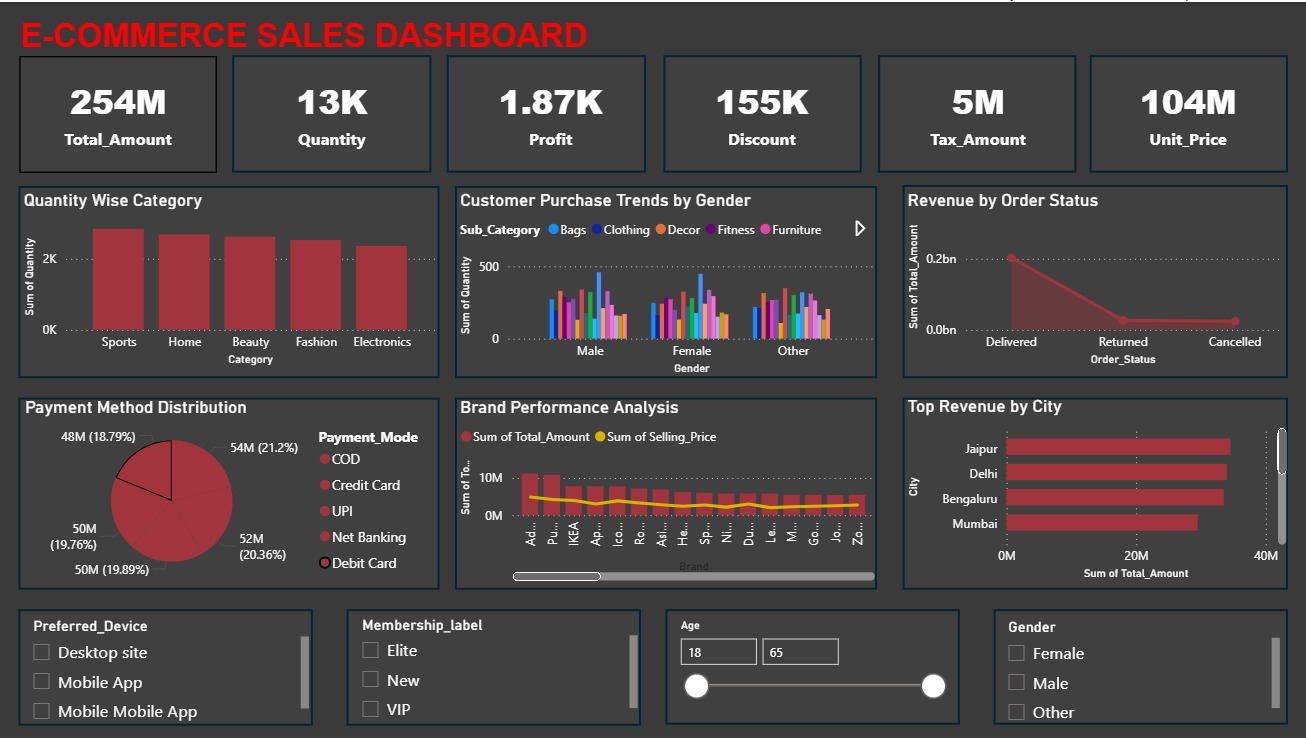

The page's visual inventory and layout, read from the dashboard file:
{"tool":"powerbi","page":{"name":"Page 2","canvas":[1280,720],"ordinal":0},"visuals":[{"type":"image","box":[0,0,1280.3,720.2],"z":0},{"type":"card","fields":{"Values":["Sum(final_joined_table.Quantity)"]},"box":[231.1,53.8,189.5,110.1],"z":1001},{"type":"card","fields":{"Values":["Sum(final_joined_table.Total_Amount)"]},"box":[19.6,53.8,194.4,110.1],"z":1002},{"type":"card","fields":{"Values":["Sum(final_joined_table.Profit_Margin)"]},"box":[440.2,53.8,199.3,110.1],"z":1003},{"type":"card","fields":{"Values":["Sum(final_joined_table.Discount)"]},"box":[650.5,53.8,192,110.1],"z":1004},{"type":"card","fields":{"Values":["Sum(final_joined_table.Tax_Amount)"]},"box":[862.1,53.8,192,110.1],"z":1005},{"type":"card","fields":{"Values":["Sum(final_joined_table.Unit_Price)"]},"box":[1068.8,53.8,189.5,110.1],"z":1006},{"type":"columnChart","title":"Quantity Wise Category","fields":{"Category":["final_joined_table.Category"],"Y":["Sum(final_joined_table.Quantity)"]},"box":[19.6,183.4,412.1,177.3],"z":1007},{"type":"clusteredColumnChart","title":"Customer Purchase Trends by Gender","fields":{"Category":["final_joined_table.Gender"],"Series":["final_joined_table.Sub_Category"],"Y":["Sum(final_joined_table.Quantity)"]},"box":[446.3,183.4,415.8,185.9],"z":1008},{"type":"stackedAreaChart","title":"Revenue by Order Status","fields":{"Category":["final_joined_table.Order_Status"],"Y":["Sum(final_joined_table.Total_Amount)"]},"box":[884.1,183.4,374.2,177.3],"z":1009},{"type":"pieChart","title":"Payment Method Distribution","fields":{"Category":["final_joined_table.Payment_Mode"],"Y":["Sum(final_joined_table.Total_Amount)"]},"box":[20.8,386.4,410.9,184.6],"z":1010},{"type":"lineStackedColumnComboChart","title":"Brand Performance Analysis","fields":{"Category":["final_joined_table.Brand"],"Y":["Sum(final_joined_table.Total_Amount)"],"Y2":["Sum(final_joined_table.Selling_Price)"]},"box":[446.3,386.4,415.8,184.6],"z":1011},{"type":"barChart","title":"Top Revenue by City","fields":{"Y":["Sum(final_joined_table.Total_Amount)"],"Category":["final_joined_table.City"]},"box":[884.1,385.2,380.3,184.6],"z":1012},{"type":"slicer","fields":{"Values":["final_joined_table.Preferred_Device"]},"box":[20.8,596.7,287.4,111.3],"z":1013},{"type":"slicer","fields":{"Values":["final_joined_table.Membership_label"]},"box":[342.4,595.5,287.4,112.5],"z":1014},{"type":"slicer","fields":{"Values":["final_joined_table.Age"]},"box":[654.2,598,281.3,101.5],"z":1015},{"type":"slicer","fields":{"Values":["final_joined_table.Gender"]},"box":[974.6,598,283.7,110.1],"z":1016}]}

Visuals, with their boxes in screenshot pixels (x1, y1, x2, y2), scaled from the page's 1280x720 canvas onto the 1306x738 screenshot:
image: crop(0, 0, 1305, 737)
card - Sum(final_joined_table.Quantity): crop(236, 55, 429, 168)
card - Sum(final_joined_table.Total_Amount): crop(20, 55, 218, 168)
card - Sum(final_joined_table.Profit_Margin): crop(449, 55, 652, 168)
card - Sum(final_joined_table.Discount): crop(664, 55, 860, 168)
card - Sum(final_joined_table.Tax_Amount): crop(880, 55, 1076, 168)
card - Sum(final_joined_table.Unit_Price): crop(1091, 55, 1284, 168)
"Quantity Wise Category" columnChart: crop(20, 188, 440, 370)
"Customer Purchase Trends by Gender" clusteredColumnChart: crop(455, 188, 880, 379)
"Revenue by Order Status" stackedAreaChart: crop(902, 188, 1284, 370)
"Payment Method Distribution" pieChart: crop(21, 396, 440, 585)
"Brand Performance Analysis" lineStackedColumnComboChart: crop(455, 396, 880, 585)
"Top Revenue by City" barChart: crop(902, 395, 1290, 584)
slicer - final_joined_table.Preferred_Device: crop(21, 612, 314, 726)
slicer - final_joined_table.Membership_label: crop(349, 610, 643, 726)
slicer - final_joined_table.Age: crop(667, 613, 955, 717)
slicer - final_joined_table.Gender: crop(994, 613, 1284, 726)
